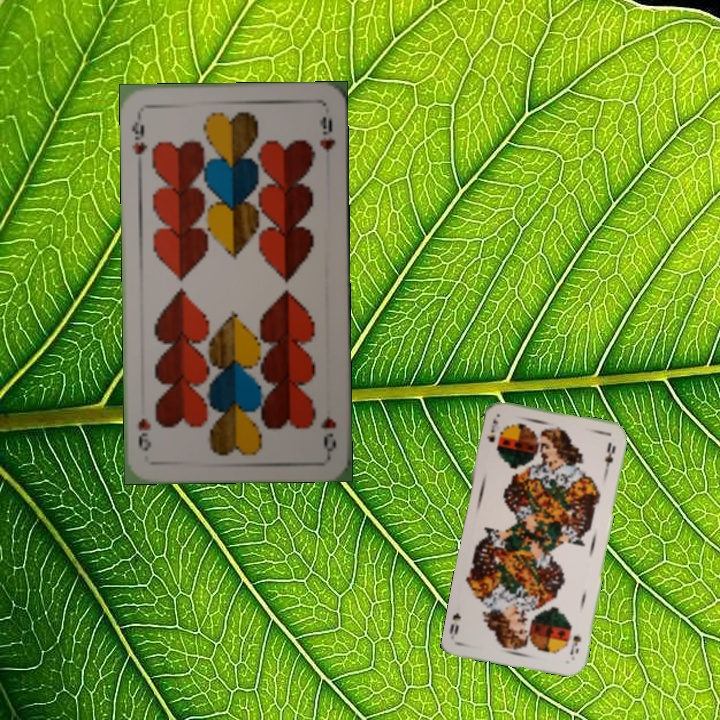H9: (316, 411, 339, 455), (127, 118, 150, 158)
SO: (483, 415, 500, 445), (566, 631, 584, 657)
